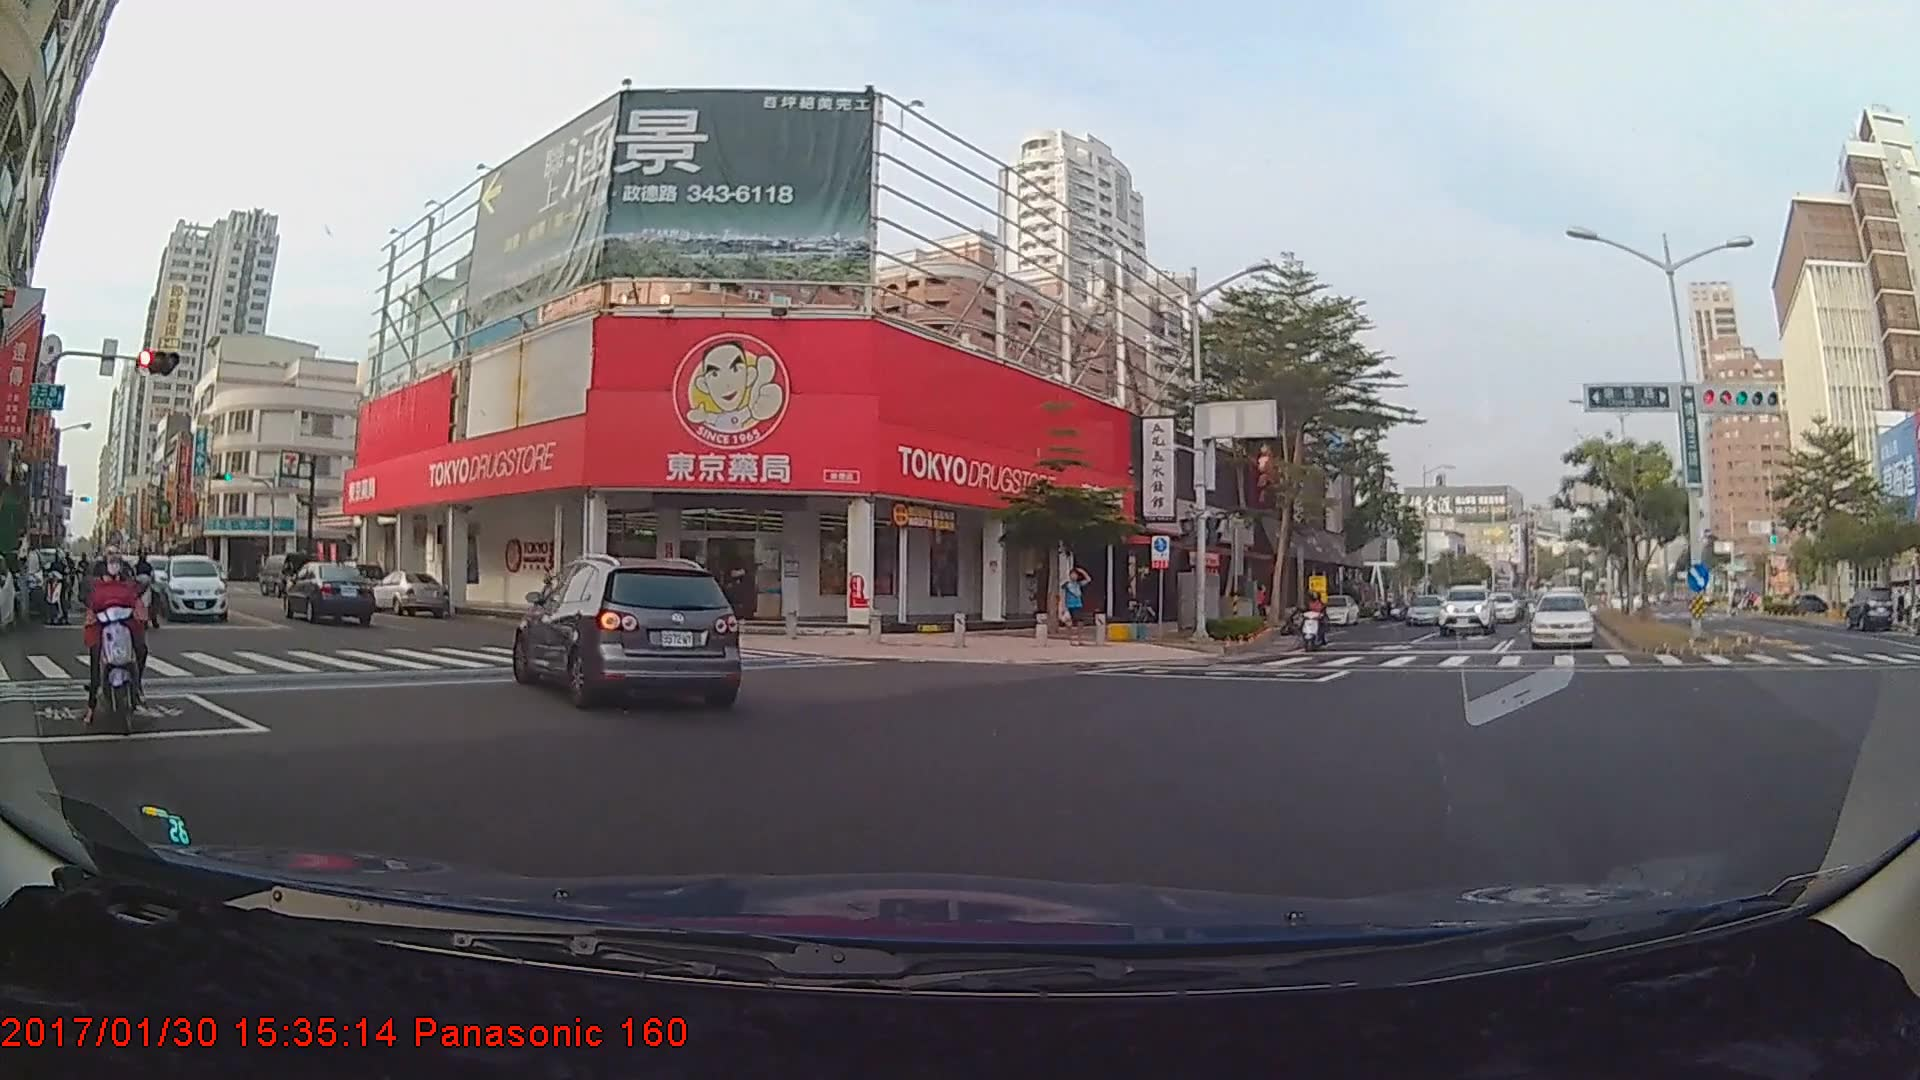pedestrian: (722, 563, 758, 652), (1060, 566, 1092, 646)
rider: (70, 544, 154, 760), (42, 544, 74, 624), (1297, 588, 1335, 653)
vehicle: (519, 557, 739, 709), (286, 561, 374, 625), (77, 556, 169, 610), (156, 556, 225, 624), (364, 567, 449, 616), (1526, 592, 1596, 649), (1436, 583, 1496, 635), (1310, 592, 1359, 625), (1405, 592, 1447, 625), (1481, 591, 1516, 623)
